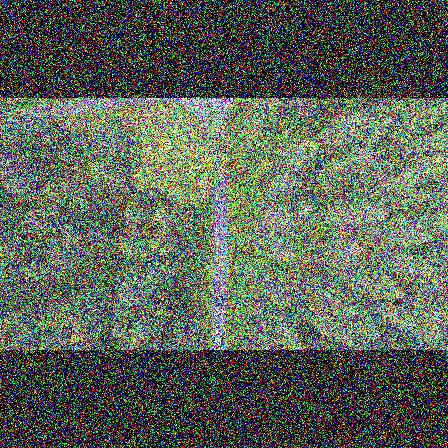Sick: (337, 236, 360, 266), (44, 246, 70, 270), (294, 200, 319, 224), (0, 161, 24, 184), (21, 211, 45, 231), (49, 199, 65, 220), (61, 231, 75, 246)
